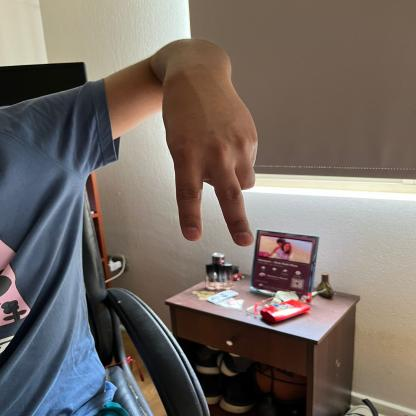N: (158, 71, 263, 249)
